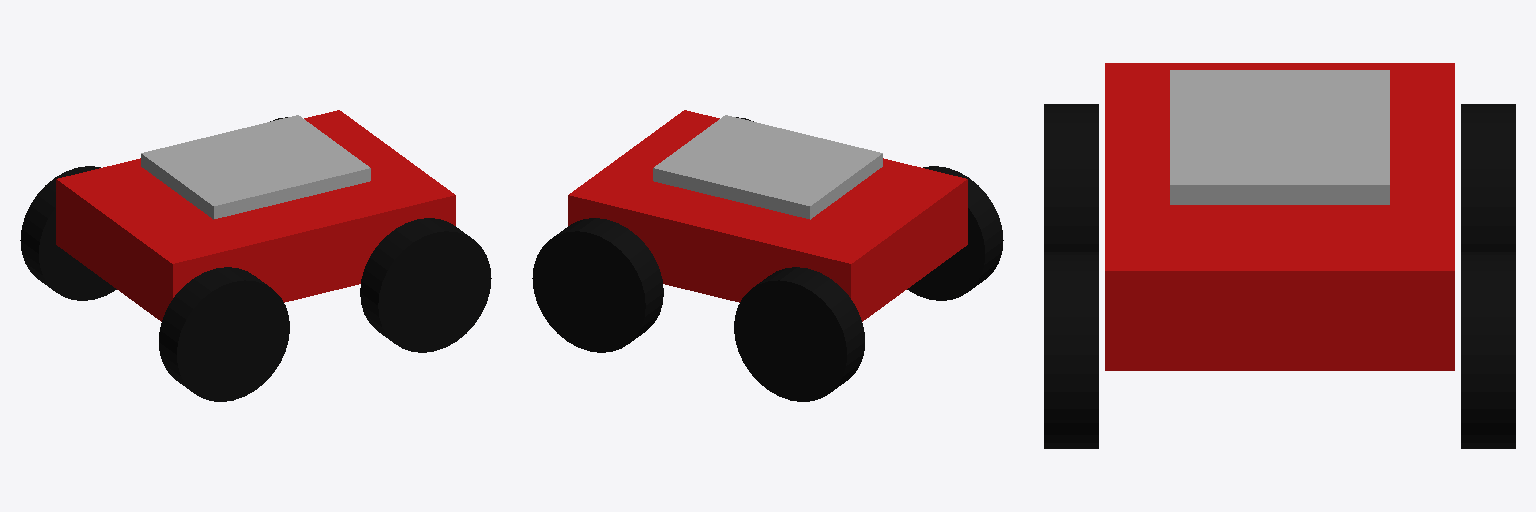
robot.urdf — pioneer3at:
<?xml version="1.0"?>
<robot name="pioneer3at">

  <material name="ChassisRed">
    <color rgba="0.8 0.1 0.1 1.0"/>
  </material>

  <material name="WheelBlack">
    <color rgba="0.1 0.1 0.1 1.0"/>
  </material>

  <material name="Grey">
    <color rgba="0.7 0.7 0.7 1.0"/>
  </material>

  <!-- base -->
  <link name="base_link"/>

  <!-- chassis -->
  <joint name="base_chassis_joint" type="fixed">
    <parent link="base_link"/>
    <child link="chassis"/>
    <origin xyz="0 0 0.12" rpy="0 0 0"/>
  </joint>

  <link name="chassis">
    <inertial>
      <origin xyz="0 0 0" rpy="0 0 0"/>
      <mass value="18.0"/>
      <inertia ixx="0.30" ixy="0.0" ixz="0.0"
               iyy="0.60" iyz="0.0"
               izz="0.70"/>
    </inertial>

    <visual>
      <origin xyz="0 0 0" rpy="0 0 0"/>
      <geometry>
        <box size="0.45 0.32 0.10"/>
      </geometry>
      <material name="ChassisRed"/>
    </visual>

    <collision>
      <origin xyz="0 0 0" rpy="0 0 0"/>
      <geometry>
        <box size="0.45 0.32 0.10"/>
      </geometry>
    </collision>
  </link>

  <!-- front left wheel -->
  <joint name="p3at_front_left_wheel_joint" type="continuous">
    <parent link="base_link"/>
    <child link="front_left_wheel"/>
    <origin xyz="0.16 0.19 0.06" rpy="0 0 0"/>
    <axis xyz="0 1 0"/>
  </joint>

  <link name="front_left_wheel">
    <inertial>
      <origin xyz="0 0 0" rpy="0 0 0"/>
      <mass value="1.0"/>
      <inertia ixx="0.005" ixy="0.0" ixz="0.0"
               iyy="0.005" iyz="0.0"
               izz="0.005"/>
    </inertial>

    <visual>
      <origin xyz="0 0 0" rpy="1.57079632679 0 0"/>
      <geometry>
        <cylinder radius="0.09" length="0.05"/>
      </geometry>
      <material name="WheelBlack"/>
    </visual>

    <collision>
      <origin xyz="0 0 0" rpy="1.57079632679 0 0"/>
      <geometry>
        <cylinder radius="0.09" length="0.05"/>
      </geometry>
    </collision>
  </link>

  <!-- front right wheel -->
  <joint name="p3at_front_right_wheel_joint" type="continuous">
    <parent link="base_link"/>
    <child link="front_right_wheel"/>
    <origin xyz="0.16 -0.19 0.06" rpy="0 0 0"/>
    <axis xyz="0 1 0"/>
  </joint>

  <link name="front_right_wheel">
    <inertial>
      <origin xyz="0 0 0" rpy="0 0 0"/>
      <mass value="1.0"/>
      <inertia ixx="0.005" ixy="0.0" ixz="0.0"
               iyy="0.005" iyz="0.0"
               izz="0.005"/>
    </inertial>

    <visual>
      <origin xyz="0 0 0" rpy="1.57079632679 0 0"/>
      <geometry>
        <cylinder radius="0.09" length="0.05"/>
      </geometry>
      <material name="WheelBlack"/>
    </visual>

    <collision>
      <origin xyz="0 0 0" rpy="1.57079632679 0 0"/>
      <geometry>
        <cylinder radius="0.09" length="0.05"/>
      </geometry>
    </collision>
  </link>

  <!-- back left wheel -->
  <joint name="p3at_back_left_wheel_joint" type="continuous">
    <parent link="base_link"/>
    <child link="back_left_wheel"/>
    <origin xyz="-0.16 0.19 0.06" rpy="0 0 0"/>
    <axis xyz="0 1 0"/>
  </joint>

  <link name="back_left_wheel">
    <inertial>
      <origin xyz="0 0 0" rpy="0 0 0"/>
      <mass value="1.0"/>
      <inertia ixx="0.005" ixy="0.0" ixz="0.0"
               iyy="0.005" iyz="0.0"
               izz="0.005"/>
    </inertial>

    <visual>
      <origin xyz="0 0 0" rpy="1.57079632679 0 0"/>
      <geometry>
        <cylinder radius="0.09" length="0.05"/>
      </geometry>
      <material name="WheelBlack"/>
    </visual>

    <collision>
      <origin xyz="0 0 0" rpy="1.57079632679 0 0"/>
      <geometry>
        <cylinder radius="0.09" length="0.05"/>
      </geometry>
    </collision>
  </link>

  <!-- back right wheel -->
  <joint name="p3at_back_right_wheel_joint" type="continuous">
    <parent link="base_link"/>
    <child link="back_right_wheel"/>
    <origin xyz="-0.16 -0.19 0.06" rpy="0 0 0"/>
    <axis xyz="0 1 0"/>
  </joint>

  <link name="back_right_wheel">
    <inertial>
      <origin xyz="0 0 0" rpy="0 0 0"/>
      <mass value="1.0"/>
      <inertia ixx="0.005" ixy="0.0" ixz="0.0"
               iyy="0.005" iyz="0.0"
               izz="0.005"/>
    </inertial>

    <visual>
      <origin xyz="0 0 0" rpy="1.57079632679 0 0"/>
      <geometry>
        <cylinder radius="0.09" length="0.05"/>
      </geometry>
      <material name="WheelBlack"/>
    </visual>

    <collision>
      <origin xyz="0 0 0" rpy="1.57079632679 0 0"/>
      <geometry>
        <cylinder radius="0.09" length="0.05"/>
      </geometry>
    </collision>
  </link>

  <!-- simple top plate -->
  <joint name="chassis_top_joint" type="fixed">
    <parent link="chassis"/>
    <child link="top_plate"/>
    <origin xyz="0 0 0.08" rpy="0 0 0"/>
  </joint>

  <link name="top_plate">
    <inertial>
      <origin xyz="0 0 0" rpy="0 0 0"/>
      <mass value="1.0"/>
      <inertia ixx="0.01" ixy="0.0" ixz="0.0"
               iyy="0.01" iyz="0.0"
               izz="0.01"/>
    </inertial>

    <visual>
      <origin xyz="0 0 0" rpy="0 0 0"/>
      <geometry>
        <box size="0.25 0.20 0.02"/>
      </geometry>
      <material name="Grey"/>
    </visual>

    <collision>
      <origin xyz="0 0 0" rpy="0 0 0"/>
      <geometry>
        <box size="0.25 0.20 0.02"/>
      </geometry>
    </collision>
  </link>

  <!-- keep teleop / diff drive active -->
  <gazebo>
    <plugin filename="gz-sim-diff-drive-system"
            name="gz::sim::systems::DiffDrive">
      <left_joint>p3at_front_left_wheel_joint</left_joint>
      <left_joint>p3at_back_left_wheel_joint</left_joint>
      <right_joint>p3at_back_right_wheel_joint</right_joint>
      <right_joint>p3at_front_right_wheel_joint</right_joint>
      <wheel_separation>0.38</wheel_separation>
      <wheel_radius>0.09</wheel_radius>
      <topic>cmd_vel</topic>
      <odom_topic>odom</odom_topic>
      <frame_id>odom</frame_id>
      <child_frame_id>base_link</child_frame_id>
    </plugin>
  </gazebo>

</robot>

--- Render facts (derived) ---
The picture shows the robot from 3 angles, left to right: view 1: azimuth 30°, elevation 25°; view 2: azimuth 150°, elevation 25°; view 3: azimuth 270°, elevation 25°; orthographic projection.
Robot: pioneer3at — 7 links, 6 joints (4 continuous, 2 fixed); root link base_link; default pose: every joint at zero.
Visible links, largest first — view 1: chassis, top_plate, back_right_wheel, front_right_wheel, back_left_wheel; view 2: chassis, top_plate, back_left_wheel, front_left_wheel, back_right_wheel; view 3: chassis, top_plate, front_left_wheel, front_right_wheel, back_left_wheel, back_right_wheel.
Link boxes in pixels (box(x1,y1,x2,y2)): chassis: box(56, 110, 455, 321); top_plate: box(141, 115, 370, 219); back_right_wheel: box(159, 267, 289, 401); front_right_wheel: box(360, 218, 491, 352); back_left_wheel: box(20, 166, 116, 300); chassis: box(568, 110, 967, 321); top_plate: box(653, 115, 882, 219); back_left_wheel: box(734, 267, 864, 401); front_left_wheel: box(532, 218, 663, 352); back_right_wheel: box(907, 166, 1003, 300); chassis: box(1105, 63, 1454, 370); top_plate: box(1170, 70, 1389, 204); front_left_wheel: box(1461, 252, 1515, 448); front_right_wheel: box(1044, 252, 1098, 448); back_left_wheel: box(1461, 104, 1515, 251); back_right_wheel: box(1044, 104, 1098, 251).
Bounding box of the posed robot: 0.5 × 0.43 × 0.24 m (x, y, z).
Geometry: primitives only (box / cylinder / sphere), no mesh files.
